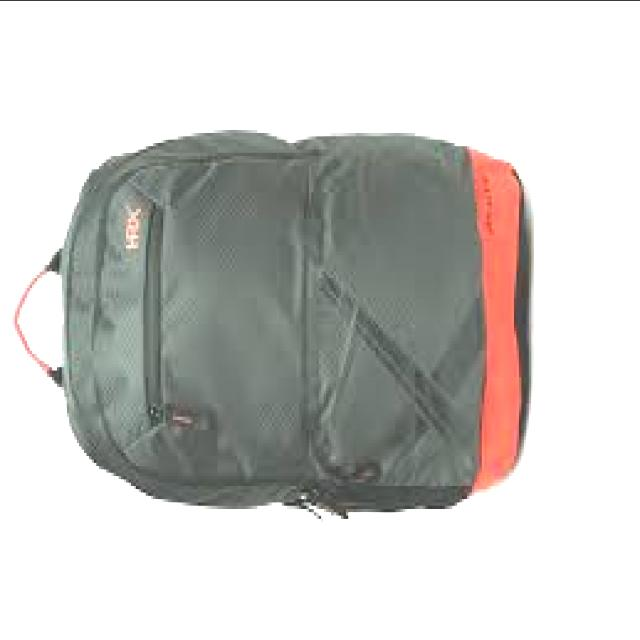backpack: (11, 130, 527, 522)
